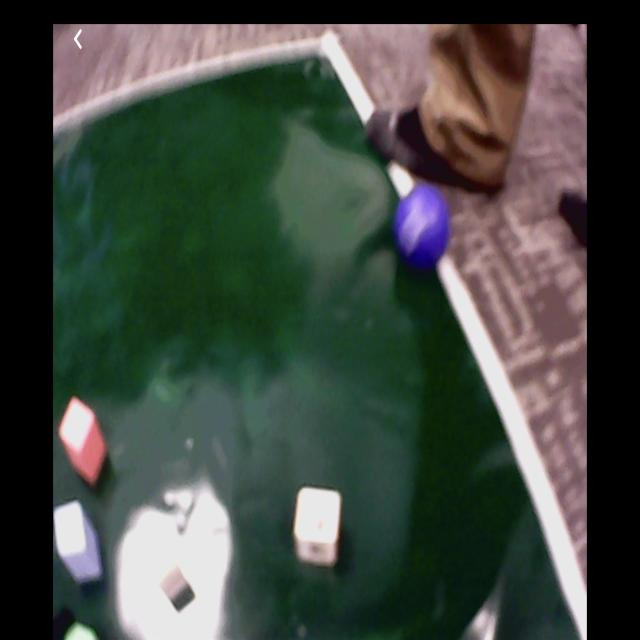ball: (395, 186, 449, 265)
